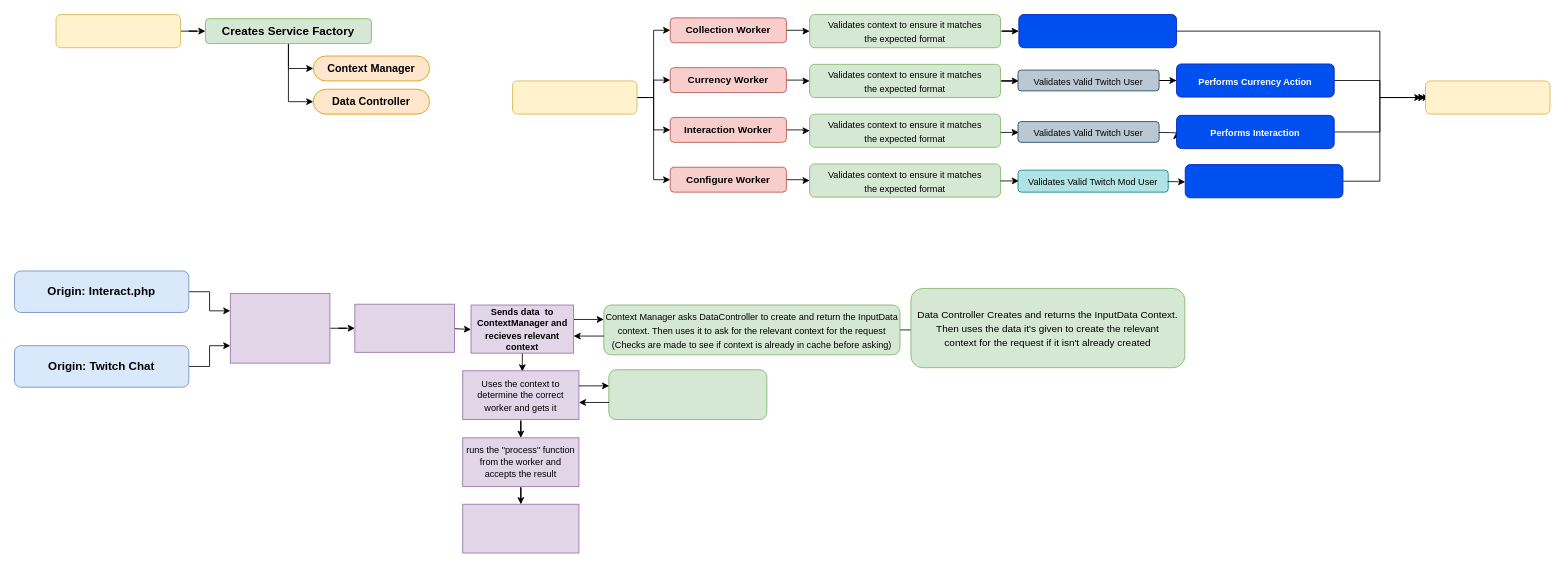
This 1565x568 diagram has some shape labels left out. Each missing label, with the centre of its shape:
API Controller recieves data: (x=404, y=327)
Gets results from Database: (x=1097, y=31)
Performs Configure Action: (x=1263, y=181)
process(): (x=574, y=97)
Return Collected Data: (x=1487, y=97)
returns a new worker that should not require any arguments for creation: (x=687, y=394)
Sends result to output system (to logs and twitch chat): (x=520, y=528)
Web Controller: (x=118, y=31)
xogoriaApi.php recieves data and ApiController is created: (x=279, y=328)
